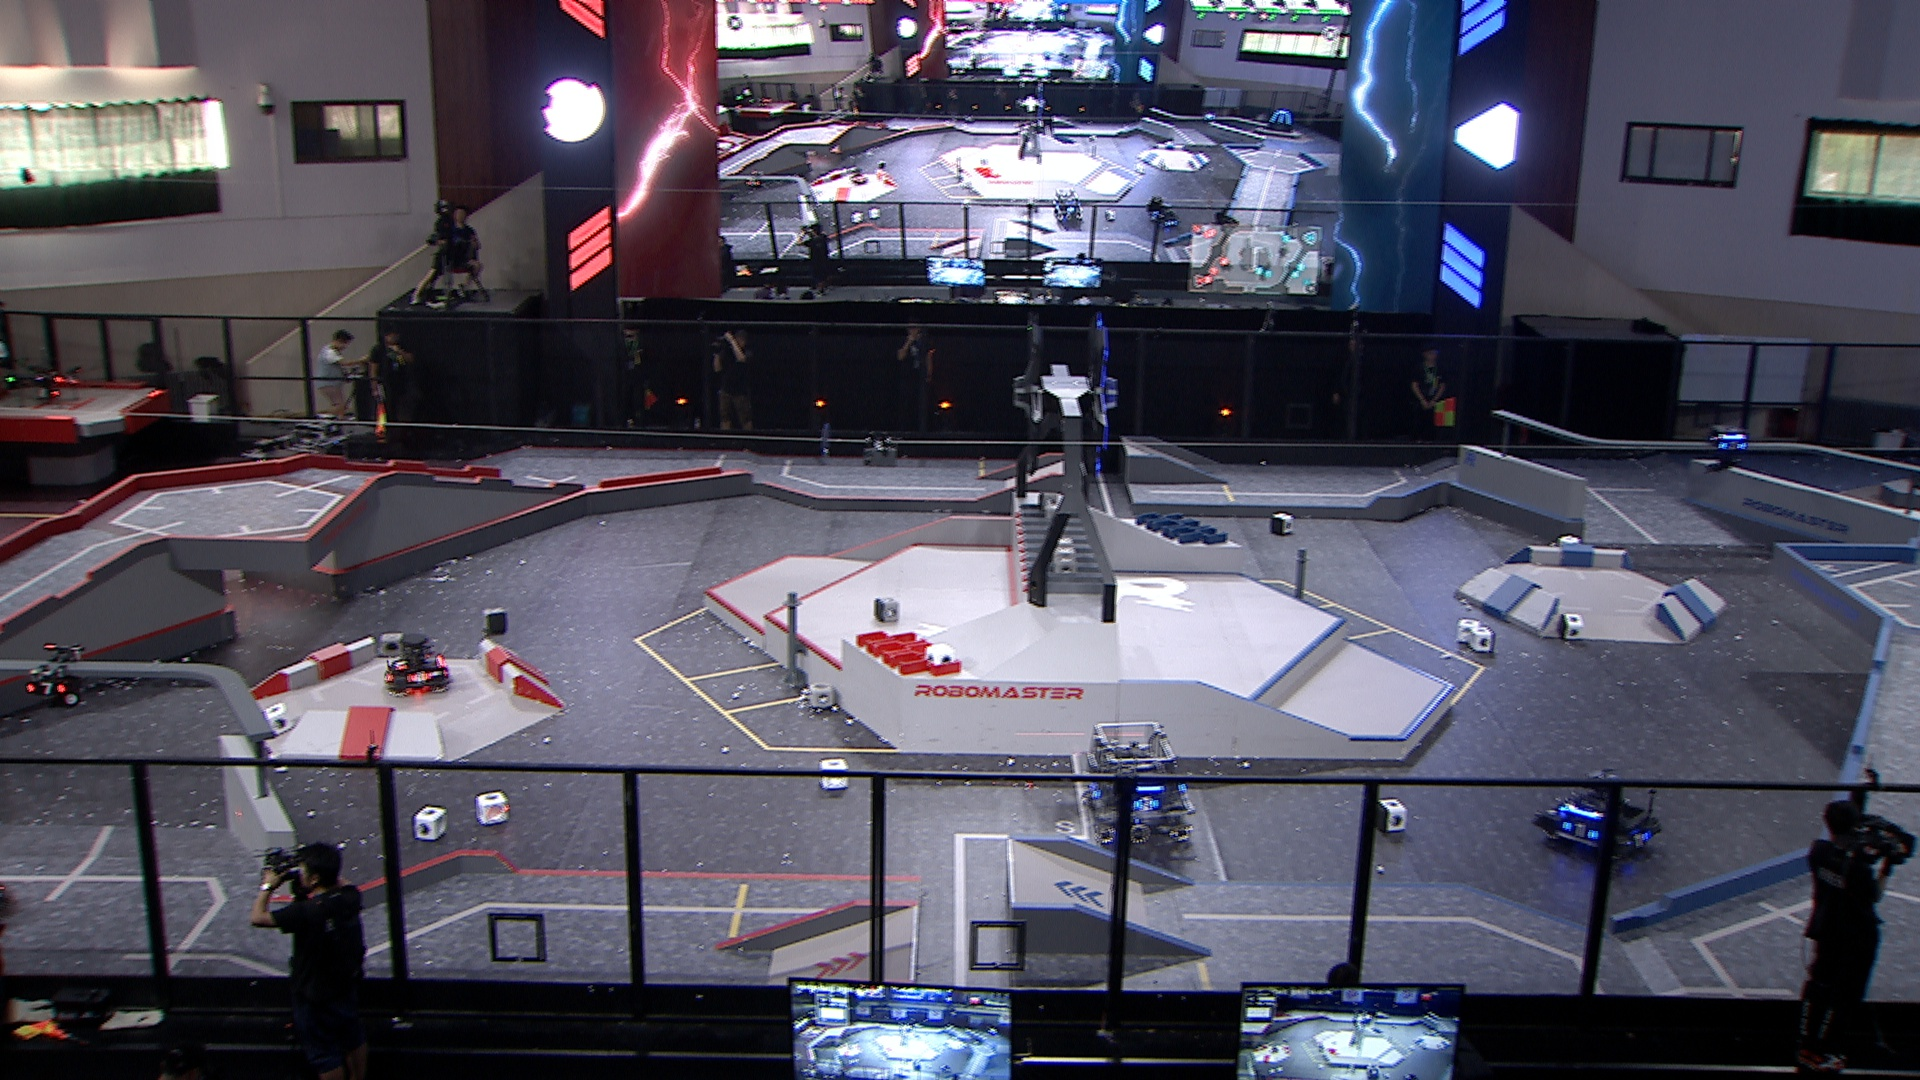armor: (1563, 822, 1602, 844), (26, 680, 69, 698), (1627, 829, 1652, 851), (1133, 796, 1160, 815), (1718, 440, 1750, 452), (406, 670, 430, 684), (1087, 782, 1101, 800), (396, 659, 409, 671)
car: (1083, 717, 1195, 851), (1536, 769, 1665, 866), (266, 413, 352, 500), (233, 436, 306, 509), (384, 633, 452, 698)
ignore: (1051, 190, 1087, 225), (1153, 202, 1182, 229), (1266, 109, 1294, 135), (746, 169, 765, 190), (849, 169, 869, 187), (1201, 111, 1216, 125)
watcher: (25, 644, 87, 707), (1705, 425, 1753, 471)
